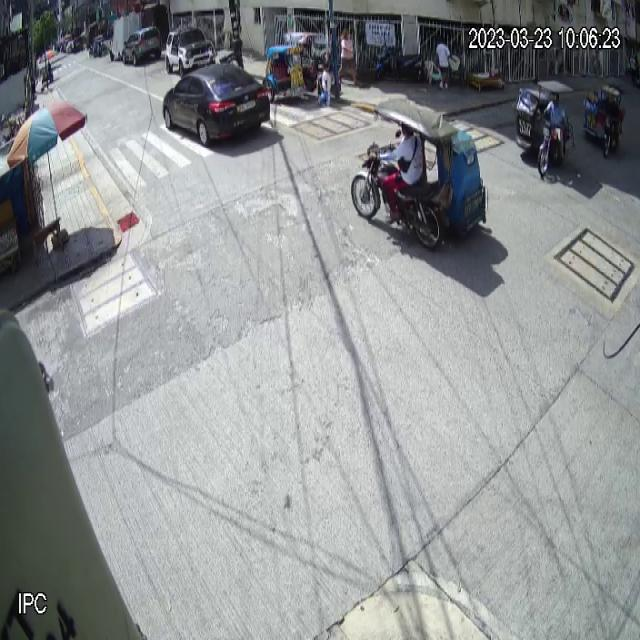Car: (162, 61, 271, 147)
Tricycle: (349, 98, 489, 251), (514, 78, 576, 178), (264, 30, 322, 105), (582, 80, 626, 158)
